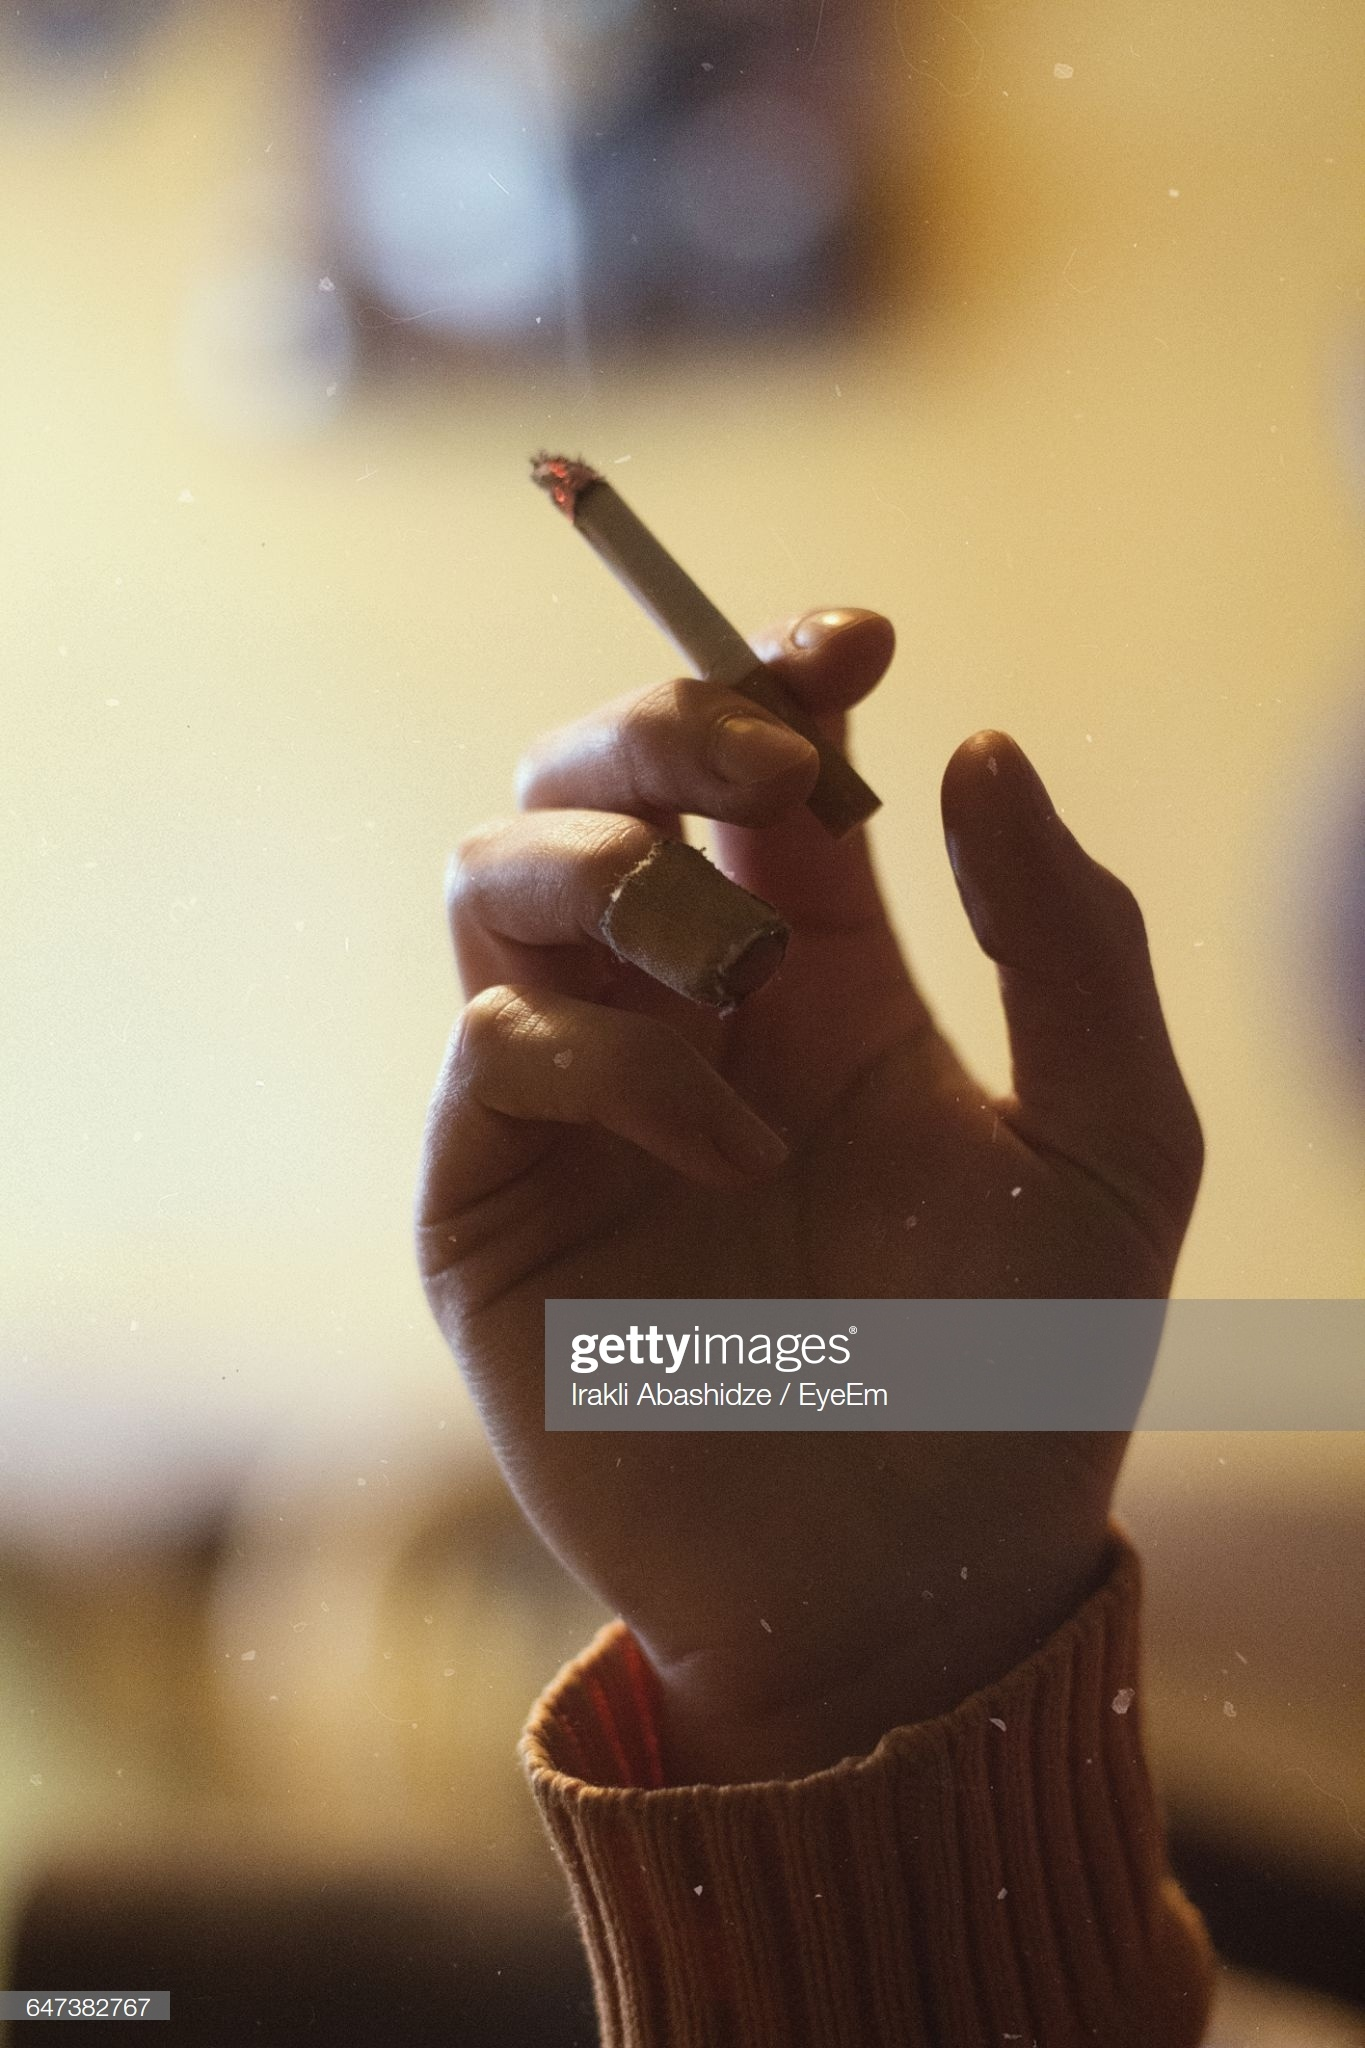sigaretta: (521, 435, 877, 821)
